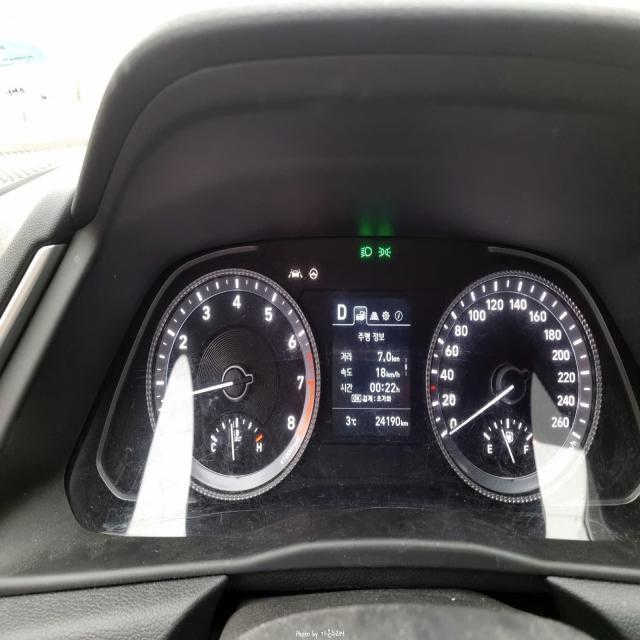LaneCenteringOff: (286, 266, 302, 278)
Low beam: (358, 244, 372, 258)
SideLamp: (376, 243, 392, 258)
